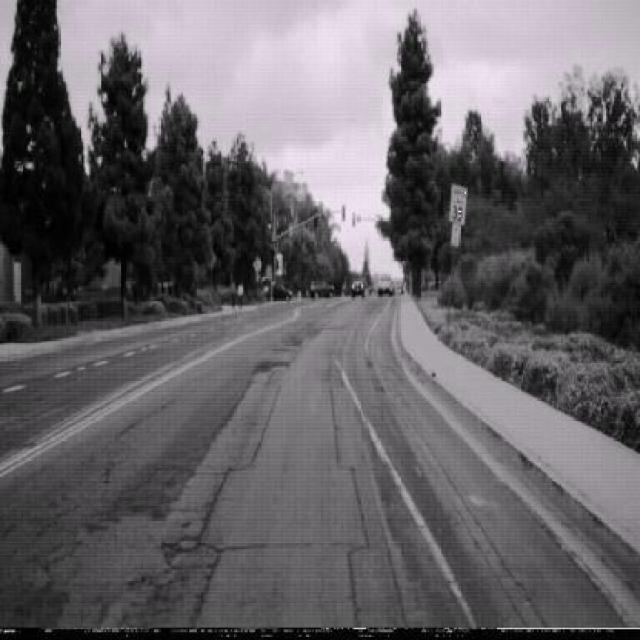speedLimit35: (449, 182, 468, 226)
